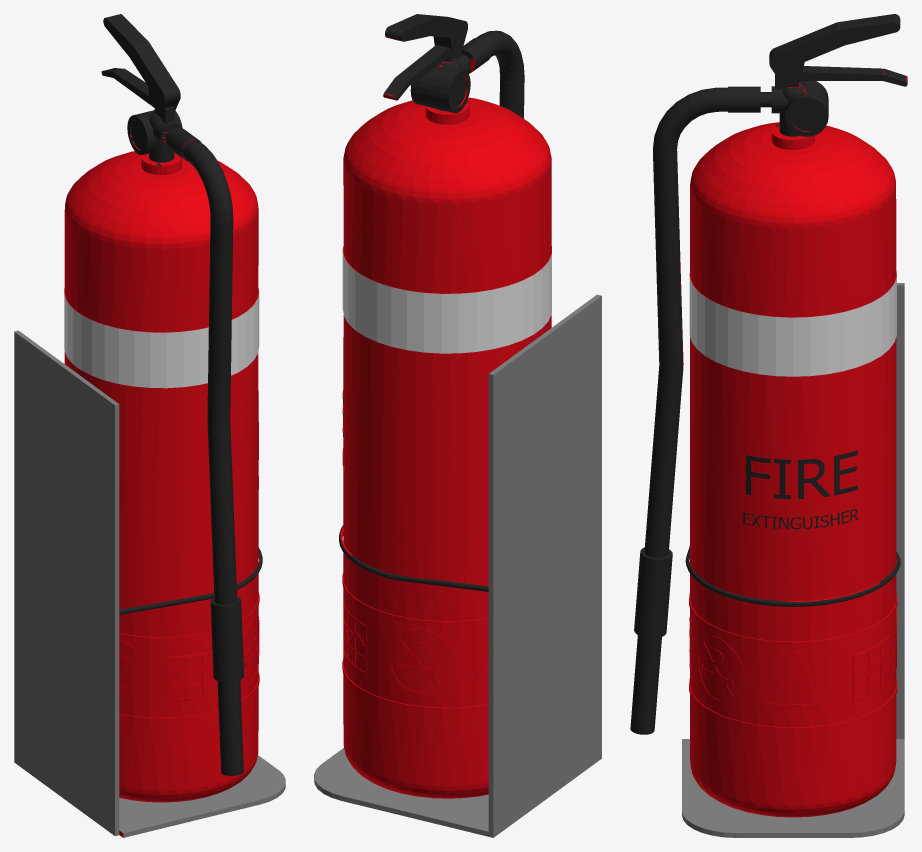
File: fire_extinguisher.dae
3 views of the same model, side by side, from view 1: azimuth 30°, elevation 25°; view 2: azimuth 150°, elevation 25°; view 3: azimuth 270°, elevation 25° (orthographic). The views are drawn at different scales.
Parts seen in each view (by area): view 1: fire_dis.003; view 2: fire_dis.003; view 3: fire_dis.003.
Part boxes in pixels (x1,y1,x2,y2): fire_dis.003: [14, 14, 285, 837]; fire_dis.003: [314, 14, 601, 837]; fire_dis.003: [630, 14, 907, 837].
Size of the model in its own units: 0.21 by 0.2551 by 0.7846.
